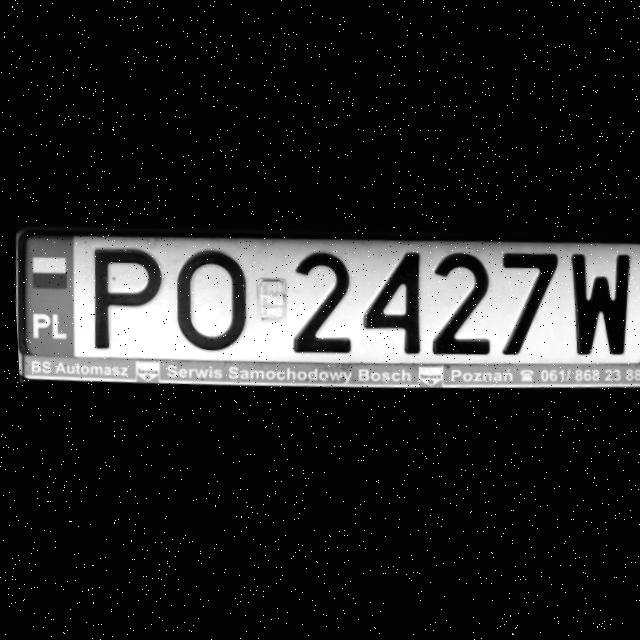license-plates: (22, 234, 640, 366)
